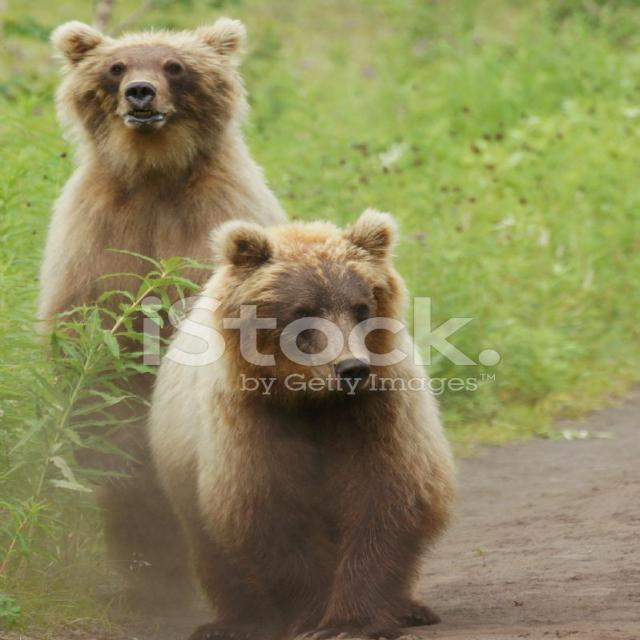Bear: (35, 18, 289, 578), (143, 209, 458, 640)
